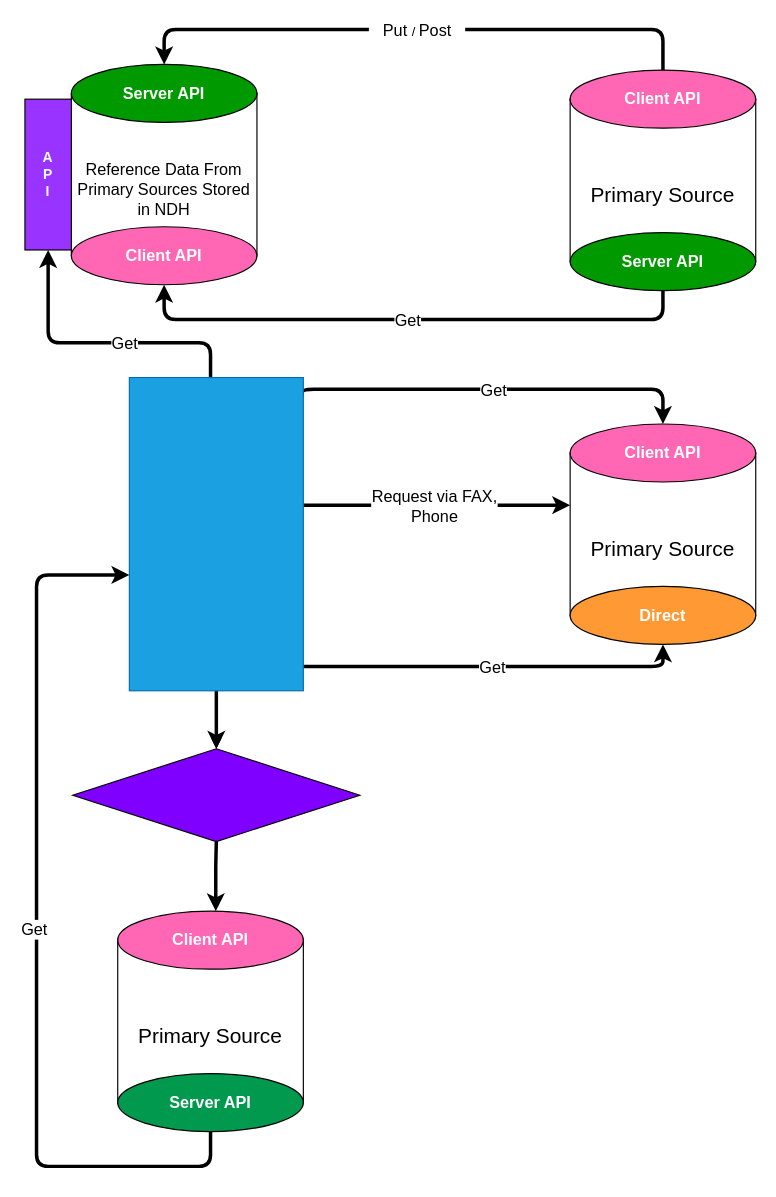
Some shapes in this 776 by 1197 pixel diagram are drawn without their labels. The centre of each missing label's shape, as x and y in pixels:
"Review / Release" belongs at (216,795).
"Verification Process" belongs at (215,533).
